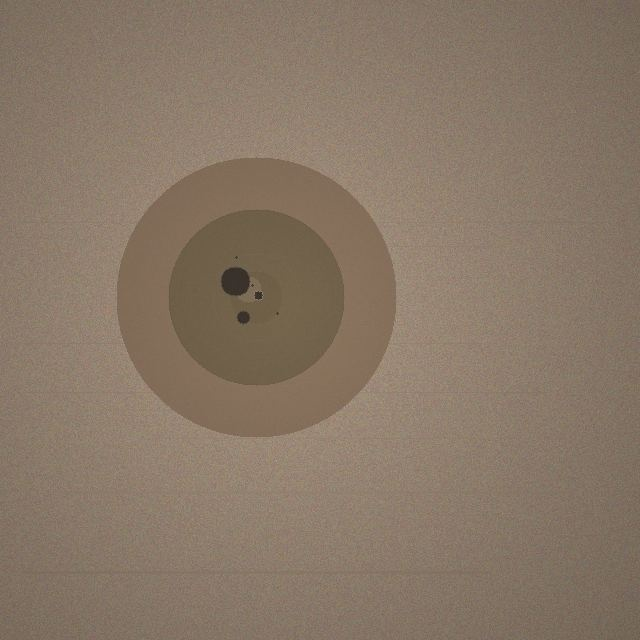shrinkage: (116, 157, 396, 437)
